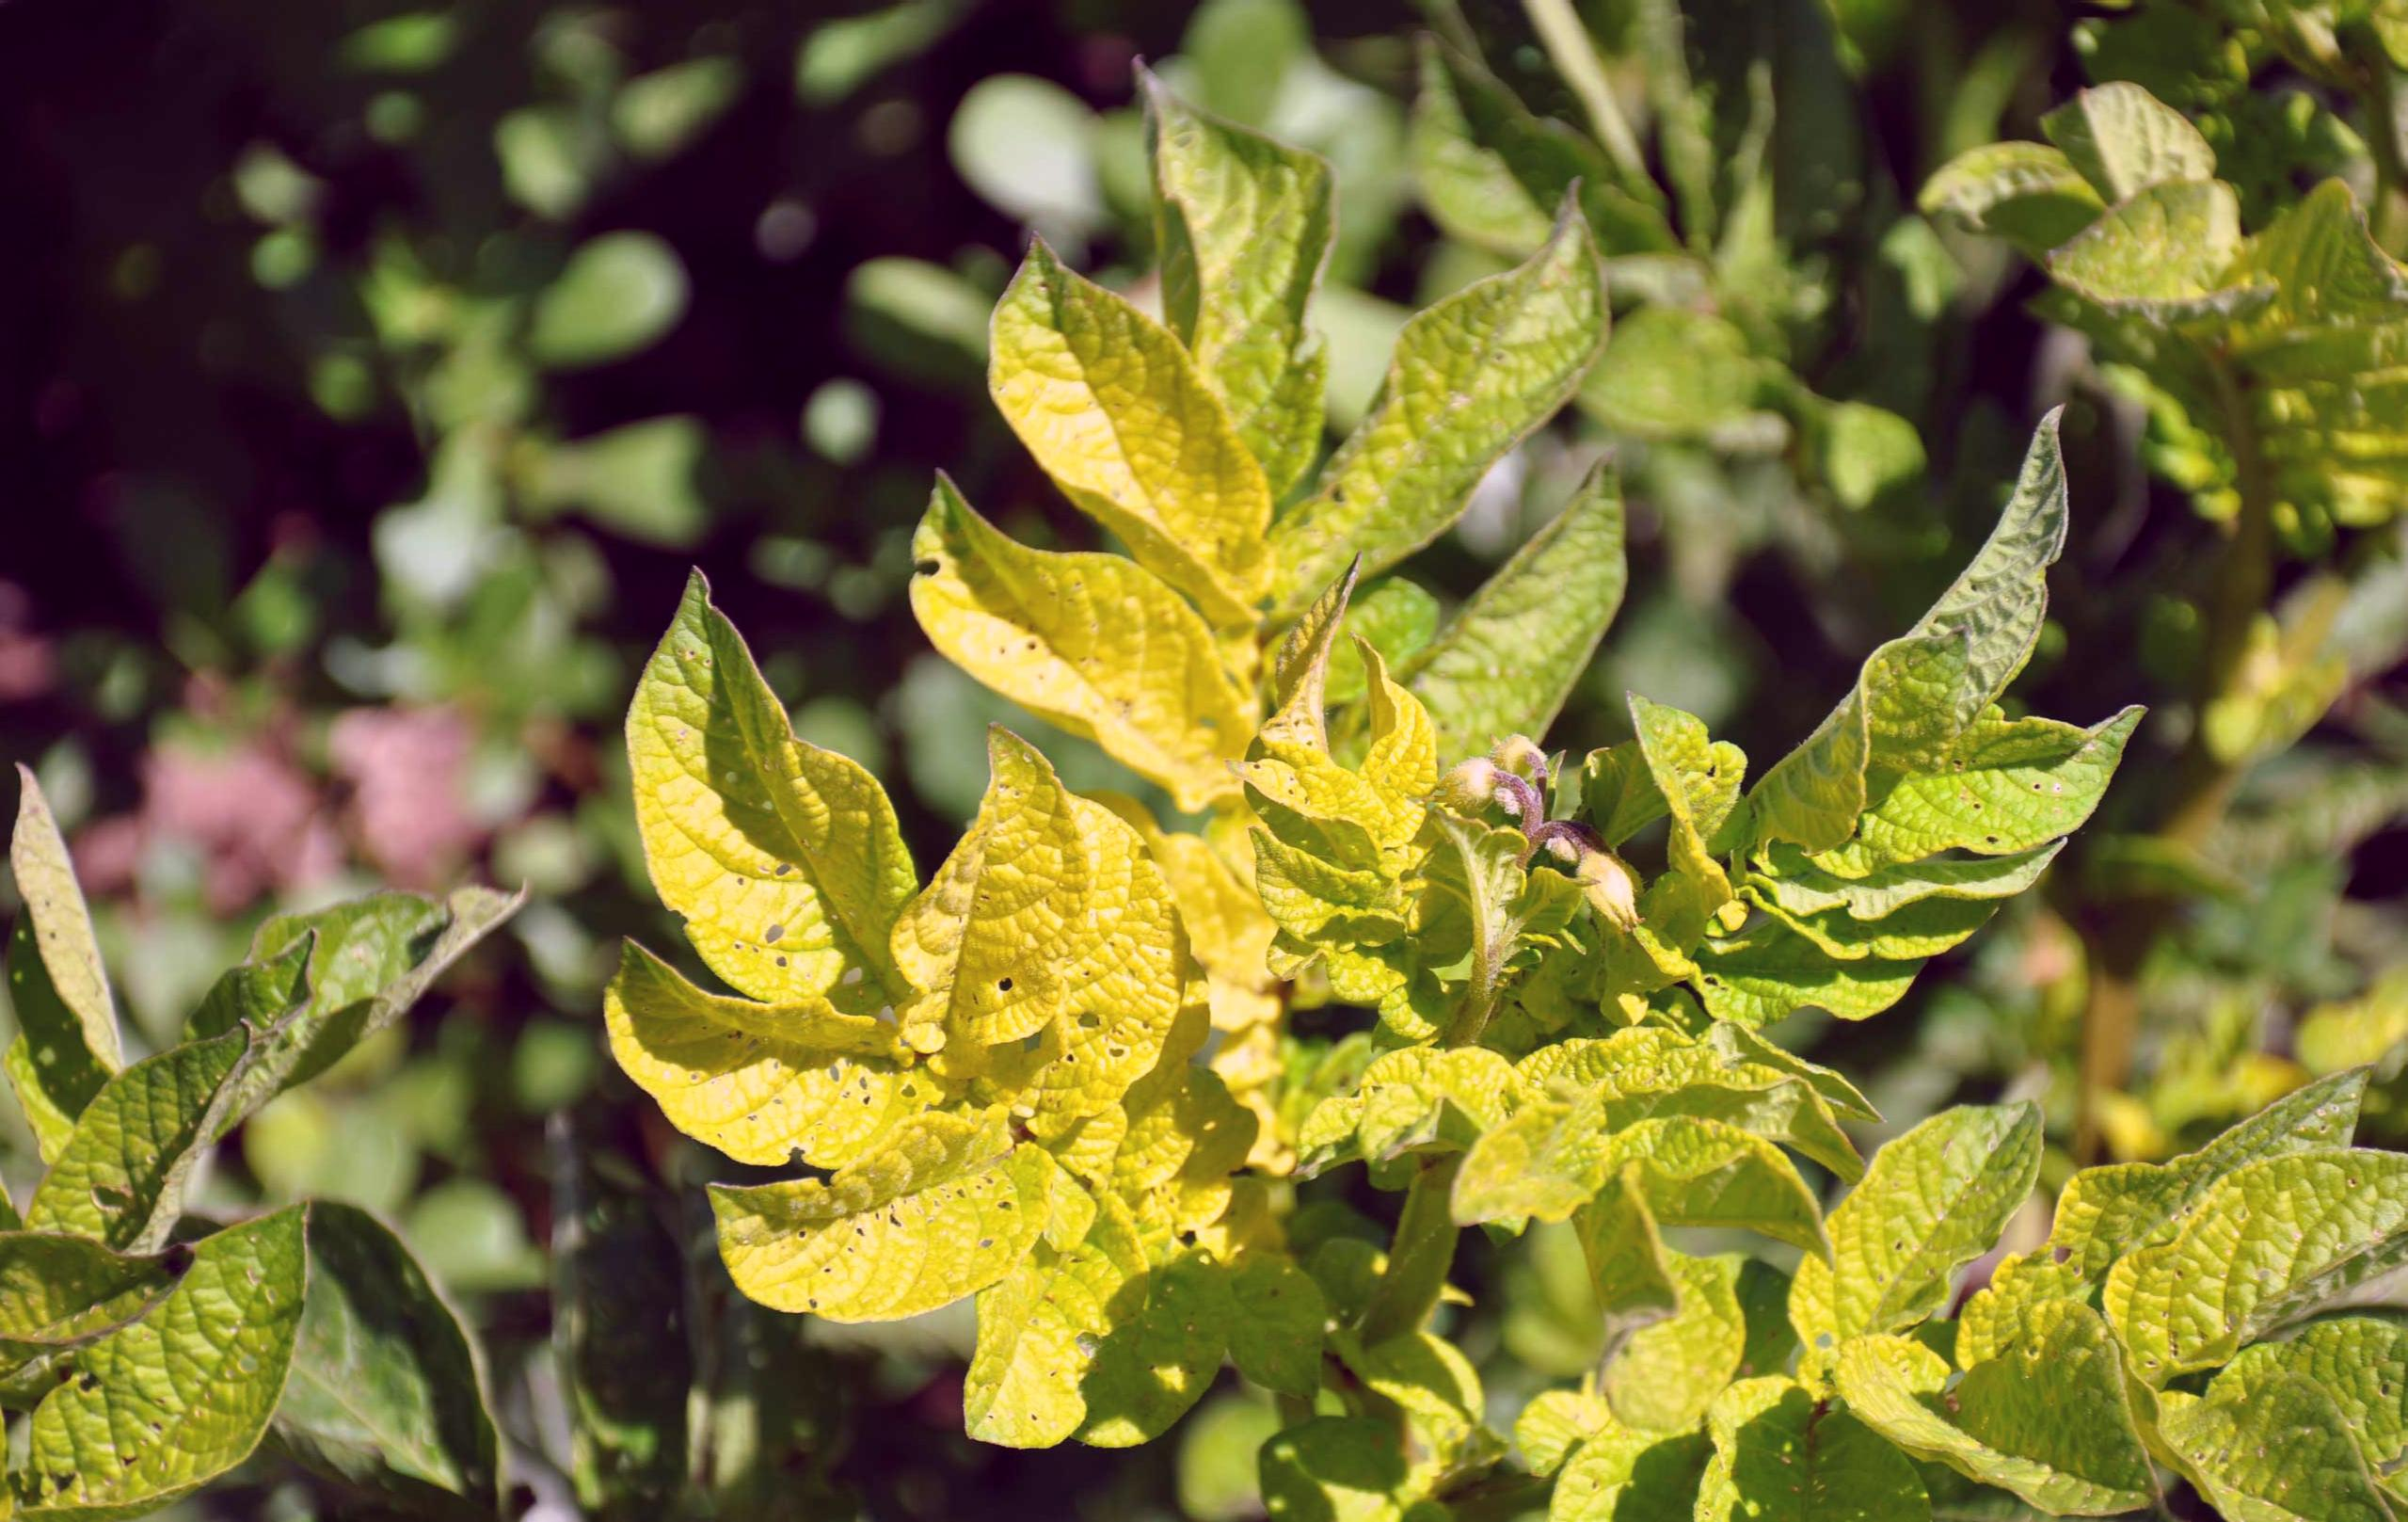Tomato leaf yellow virus: (556, 586, 939, 978), (1309, 170, 1653, 573), (1751, 1040, 2059, 1485), (1442, 999, 1893, 1303), (974, 238, 1304, 615), (0, 1156, 336, 1522), (889, 489, 1243, 835), (1788, 661, 2164, 917), (2072, 1127, 2408, 1412), (906, 700, 1102, 1098)
